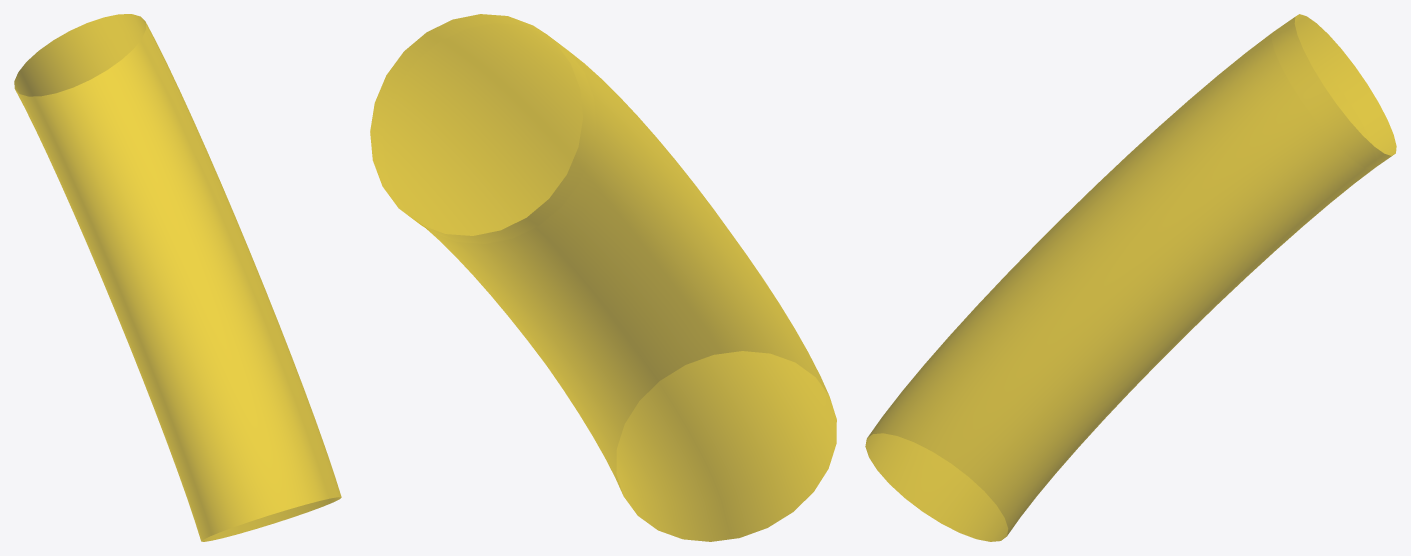
The model's file is Event_84804159_track_76.fbx.
The picture shows the model from 3 angles, left to right: view 1: azimuth 30°, elevation 25°; view 2: azimuth 150°, elevation 25°; view 3: azimuth 270°, elevation 25°; orthographic projection. The views are drawn at different scales.
Visible parts, largest first — view 1: Model; view 2: Model; view 3: Model.
Part boxes in pixels (x1,y1,x2,y2): Model: (14,14,341,541); Model: (370,14,836,541); Model: (865,14,1396,541).
Bounding box in the file's own units: 0.0447 × 0.1287 × 0.1242.
